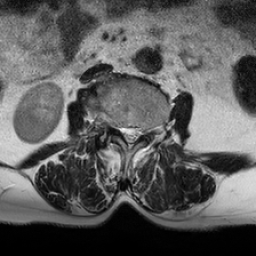CCS_normal: (126, 121, 132, 153)
LFS_stenosis: (141, 122, 148, 141)
LLS_normal: (133, 122, 140, 146)
RFS_normal: (110, 115, 120, 136)
RLS_normal: (118, 120, 126, 147)
